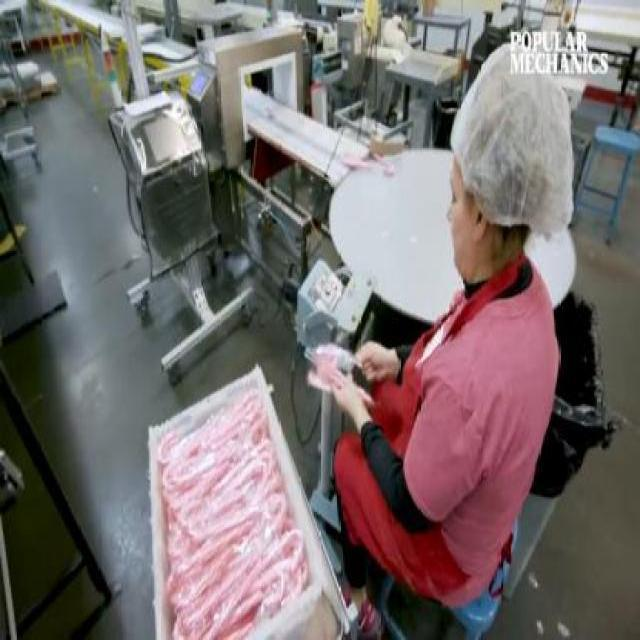bare_hand: (352, 323, 405, 387), (314, 369, 368, 424)
